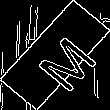M_NW: (19, 21, 91, 89)
